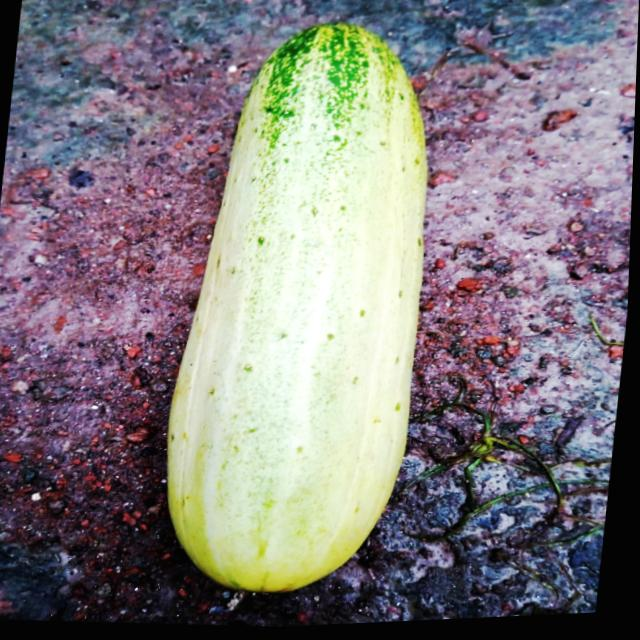Fresh-Cucumber: (152, 7, 455, 613)
